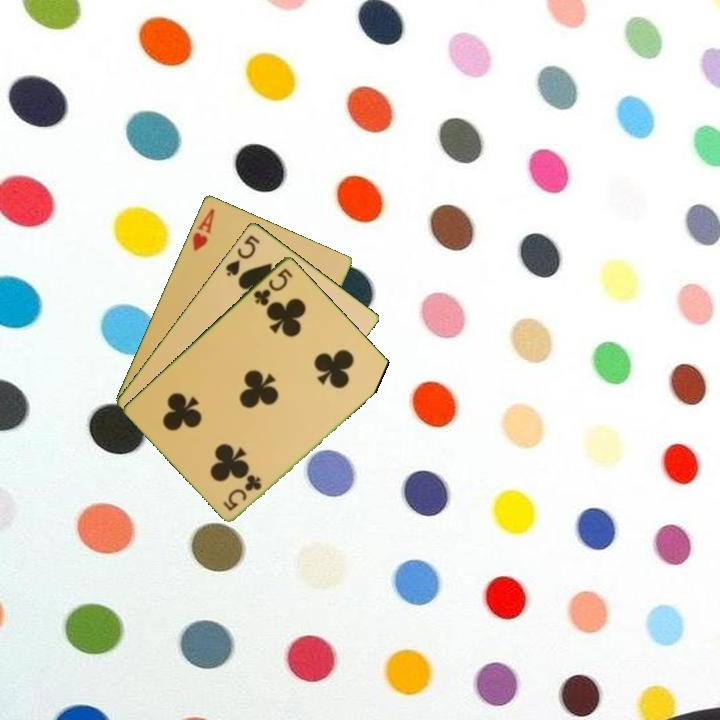5c: (250, 264, 296, 308), (220, 471, 265, 513)
5s: (222, 231, 263, 279)
Ah: (188, 205, 217, 253)
